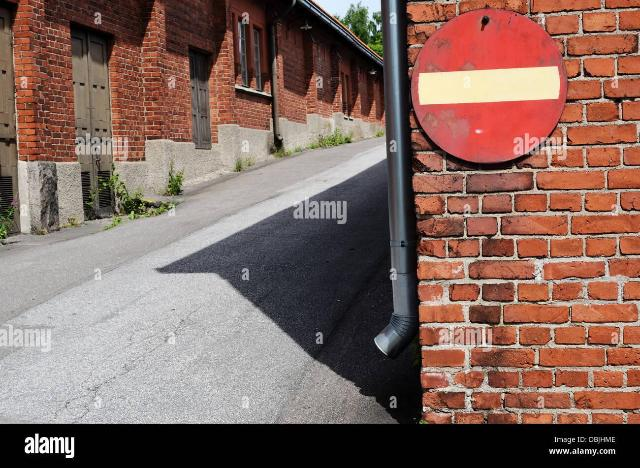B2: (409, 8, 568, 164)
